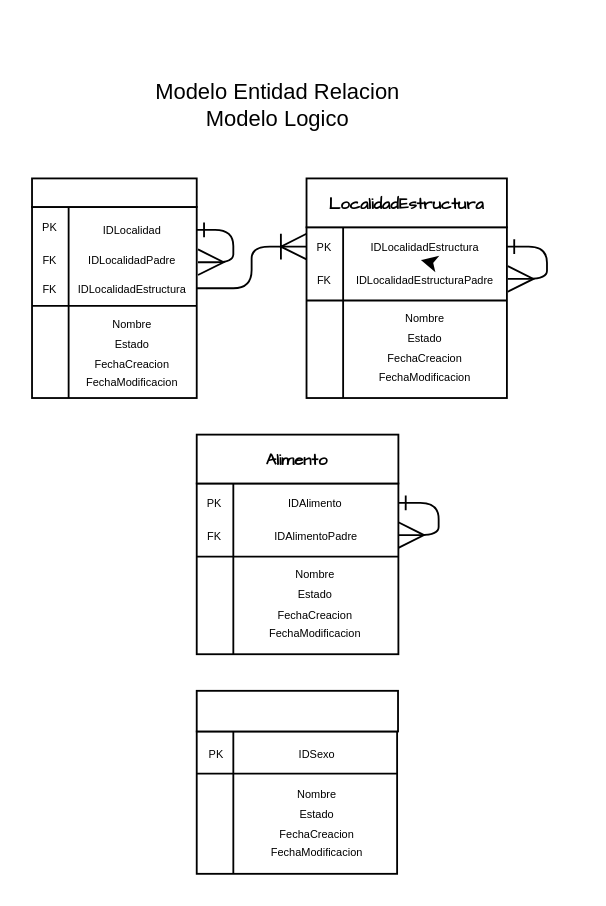
Some shapes in this 606 by 906 pixel diagram are drawn without their labels. The centre of each missing label's shape, as x and y in pixels:
"Localidad" belongs at (113,192).
"Sexo" belongs at (296,710).
